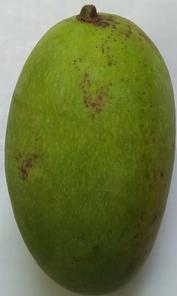Unripe: (1, 1, 177, 296)
